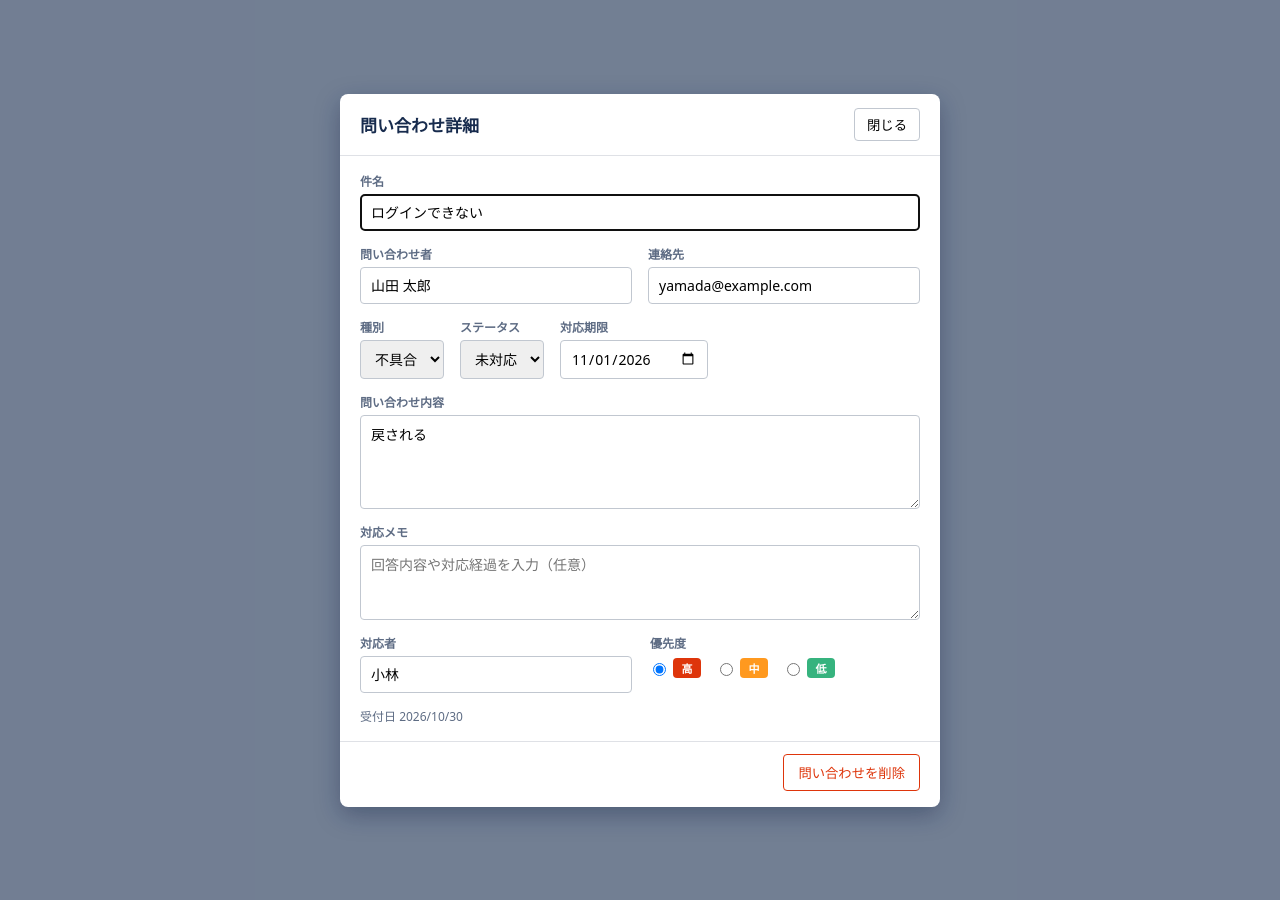
Test: InquiryDetail › 保存に失敗したら、その項目の下に文言を出し、下書きは残す
Replace the text in the field labelled "件名" with "新しい件名" at (640, 212), box x1=360 y1=194 x2=920 y2=230
Then press Enter
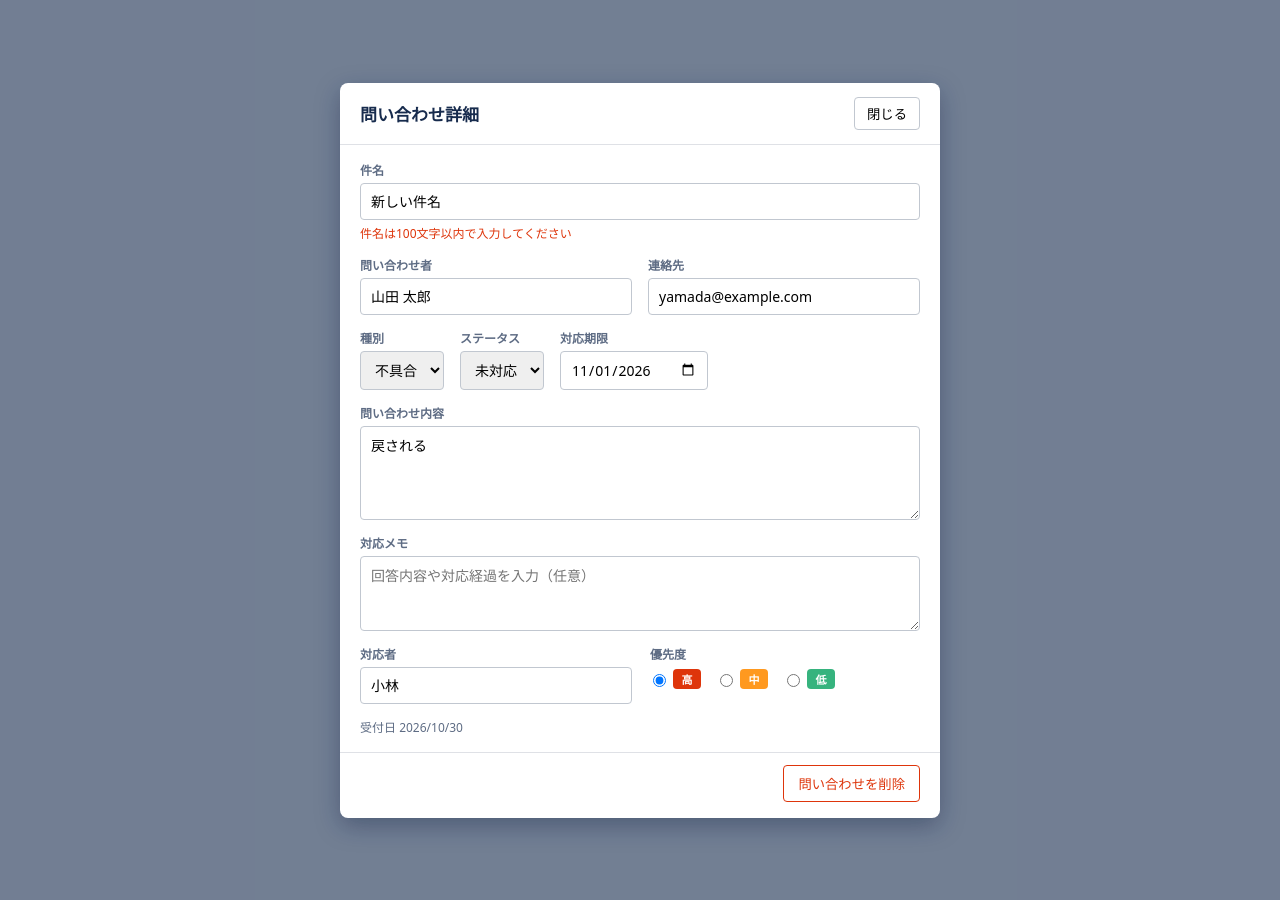
Check: the message reads "件名は100文字以内で入力してください", box x1=360 y1=224 x2=572 y2=242
